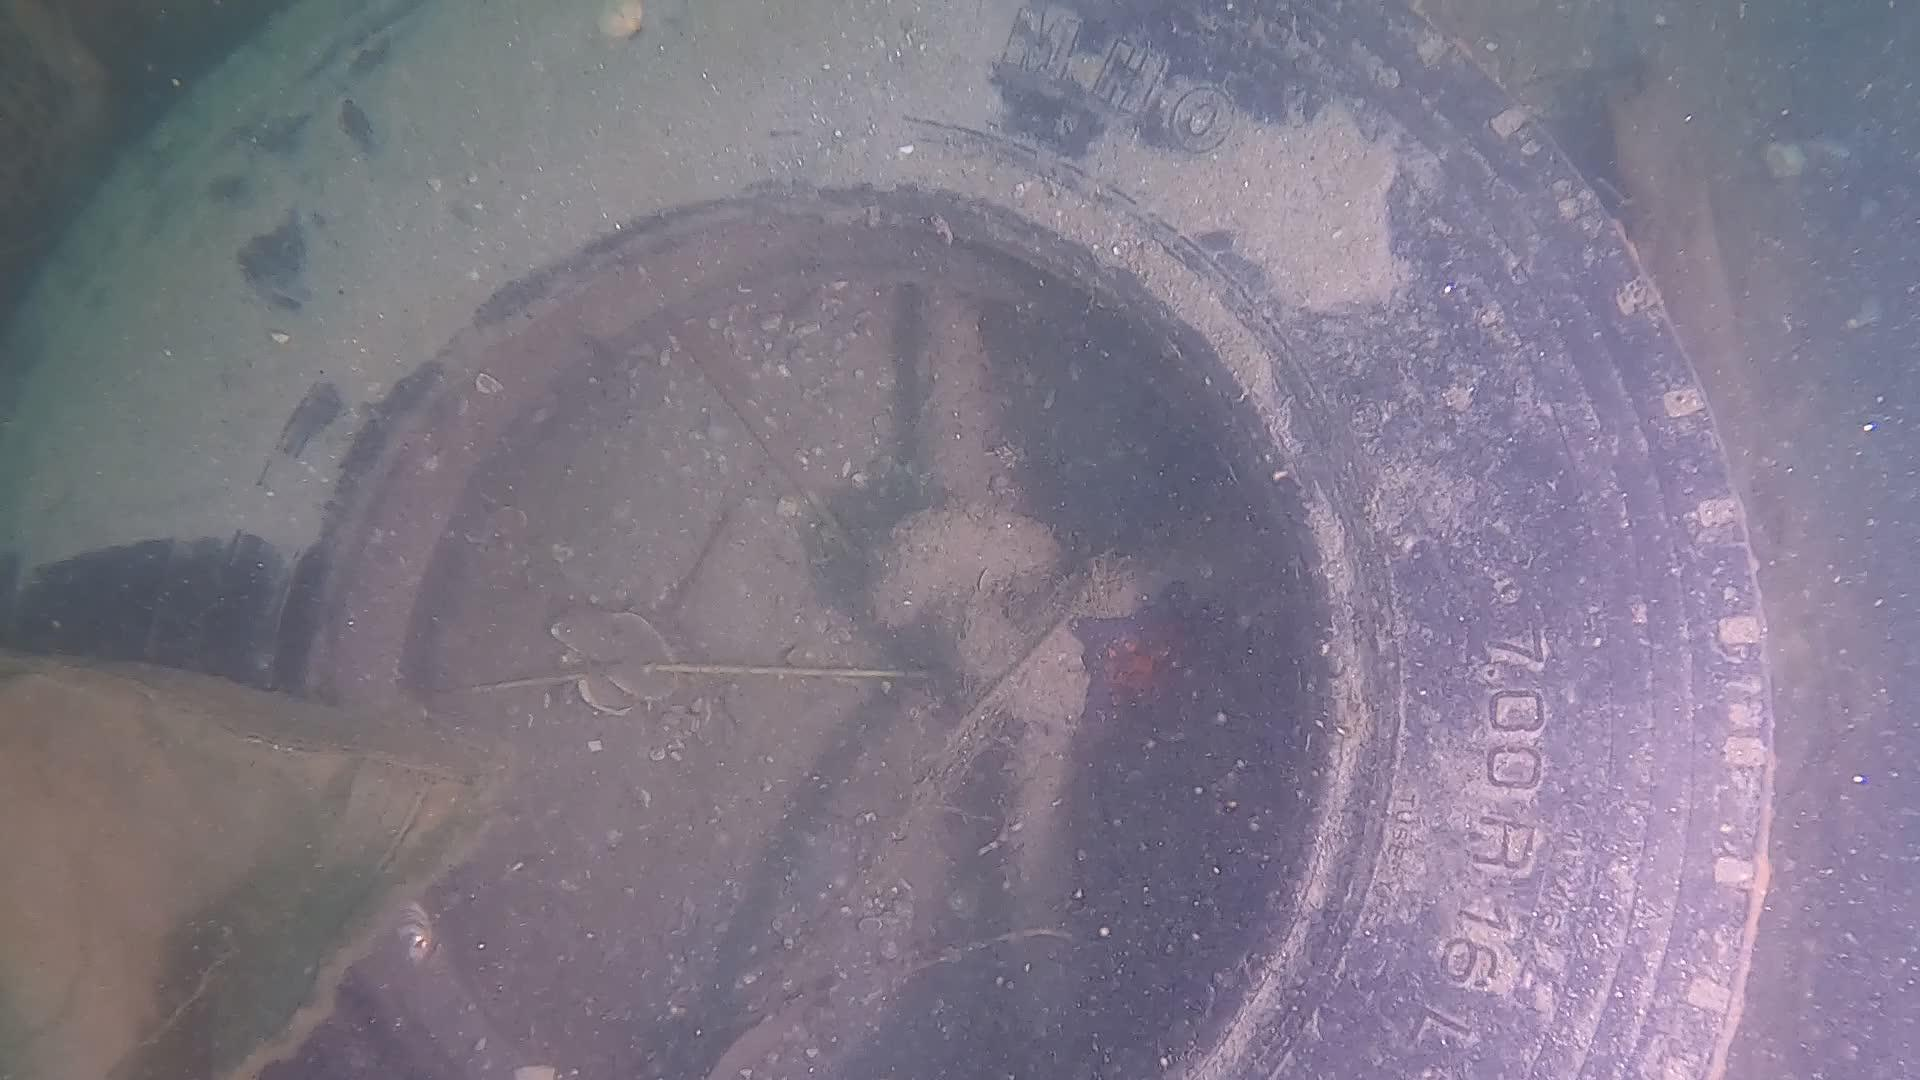tire: (0, 0, 1774, 1080)
